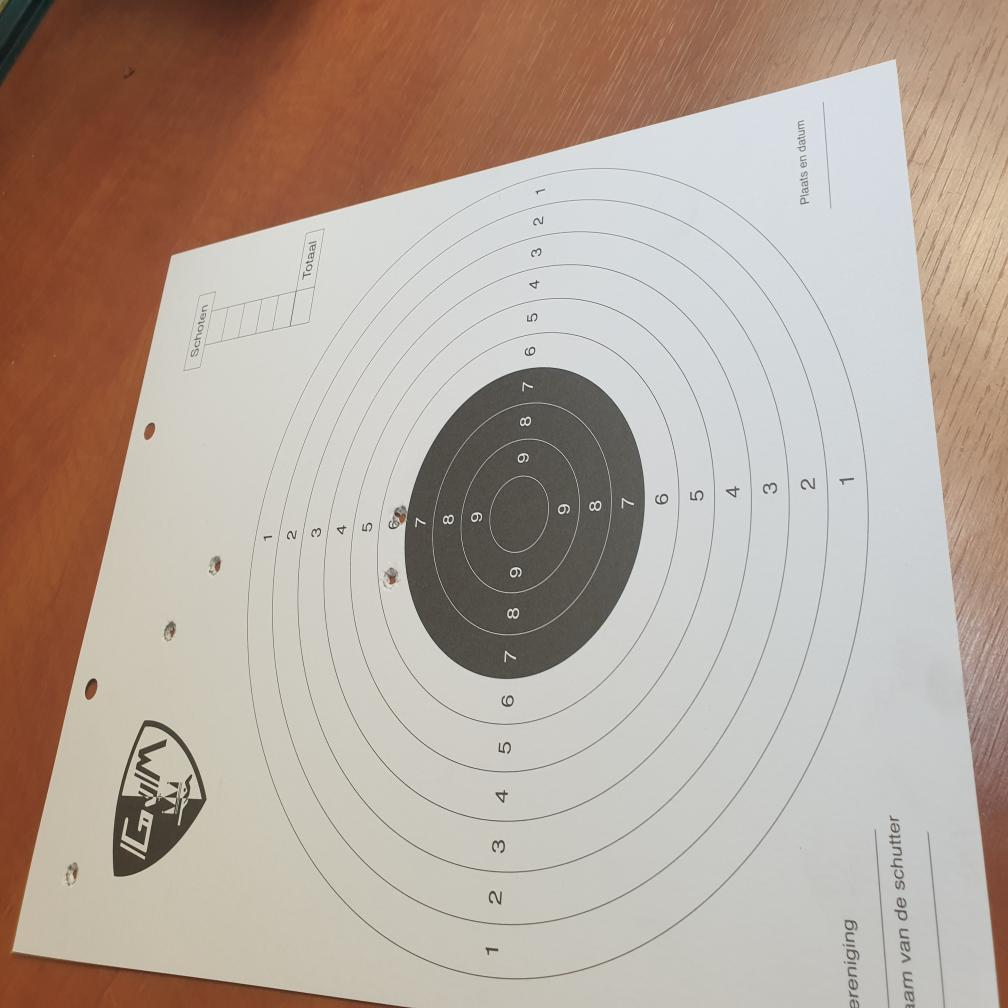0: (62, 860, 80, 889), (208, 553, 222, 579), (162, 619, 176, 643)
6: (378, 562, 402, 592)
7: (392, 500, 409, 527)
Target: (243, 165, 872, 984)
black_contour: (403, 368, 645, 674)
